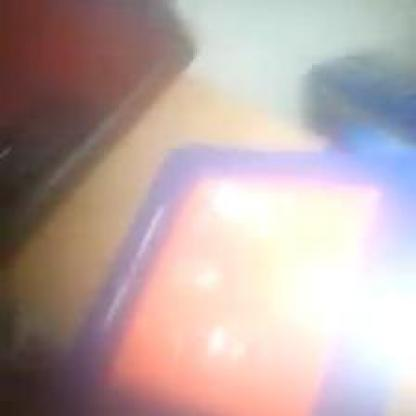other: (192, 173, 392, 381)
